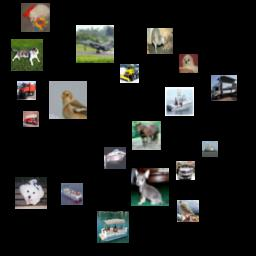airplane: (76, 25, 114, 63)
automobile: (176, 161, 195, 180)
bird: (49, 81, 87, 119), (147, 28, 173, 54), (177, 200, 199, 222)
cat: (11, 39, 43, 71)
dog: (131, 168, 169, 206), (15, 177, 47, 209), (21, 3, 50, 32), (179, 54, 198, 73)
ship: (97, 211, 129, 243), (165, 87, 194, 116), (61, 183, 83, 205), (104, 147, 126, 169), (202, 141, 218, 157)
truck: (211, 75, 237, 101), (120, 64, 139, 83), (17, 81, 36, 100), (23, 111, 39, 127)
